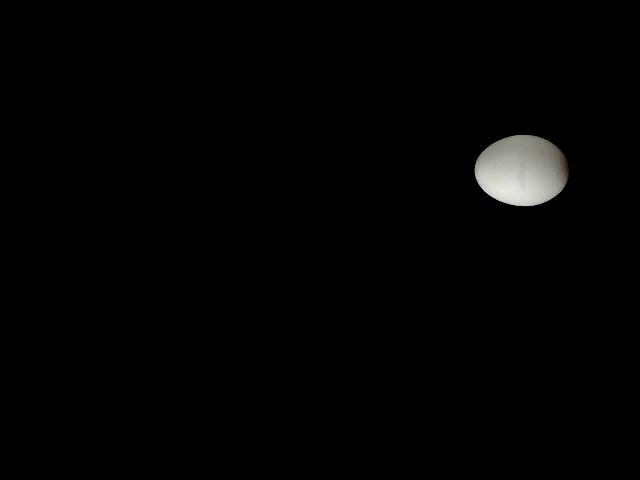egg: (474, 135, 569, 207)
